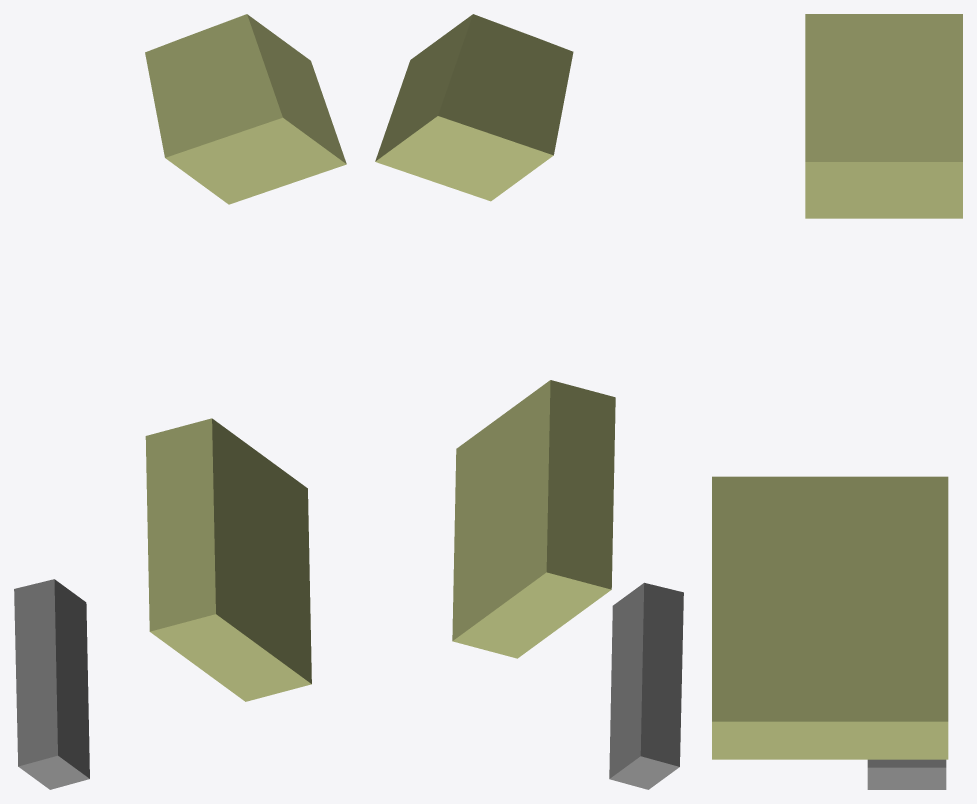
3 views of the same model, side by side, from view 1: azimuth 30°, elevation 25°; view 2: azimuth 150°, elevation 25°; view 3: azimuth 270°, elevation 25° (orthographic). The views are drawn at different scales.
Visible parts, largest first — view 1: 0_1_2_0_3_3_1_3_1; view 2: 0_1_2_0_3_3_1_3_1; view 3: 0_1_2_0_3_3_1_3_1.
Boxes of the visible parts, x1,y1,x2,y2 form: 0_1_2_0_3_3_1_3_1: (14,14,346,789); 0_1_2_0_3_3_1_3_1: (375,14,683,789); 0_1_2_0_3_3_1_3_1: (712,14,962,789).
Size of the model in its own units: 14.93 by 35.73 by 9.55.
